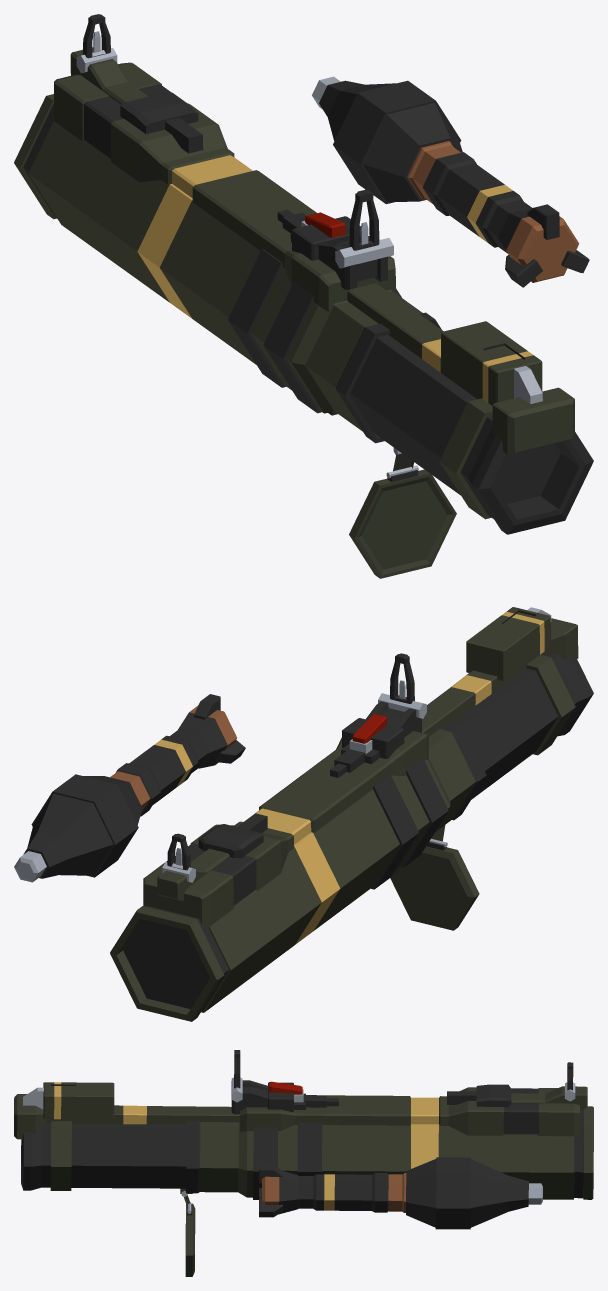
Rendered from Rocket_Launcher_2.fbx.
3 renders of one model, top to bottom at view 1: azimuth 30°, elevation 25°; view 2: azimuth 150°, elevation 25°; view 3: azimuth 270°, elevation 25°, orthographic. The views are drawn at different scales.
Visible parts, largest first — view 1: Rocket_Launcher_1, Rocket_Launcher_1_Part1, Rocket_1; view 2: Rocket_Launcher_1, Rocket_Launcher_1_Part1, Rocket_1; view 3: Rocket_Launcher_1, Rocket_Launcher_1_Part1, Rocket_1.
Part boxes in pixels (x1,y1,x2,y2): Rocket_Launcher_1: (14,94,593,578); Rocket_Launcher_1_Part1: (54,14,574,454); Rocket_1: (312,76,589,287); Rocket_Launcher_1: (110,652,593,1021); Rocket_Launcher_1_Part1: (143,607,578,928); Rocket_1: (14,694,245,882); Rocket_Launcher_1: (21,1106,593,1276); Rocket_Launcher_1_Part1: (14,1050,587,1139); Rocket_1: (259,1157,542,1229).
Size of the model in its own units: 7.7 by 7.92 by 19.1.
